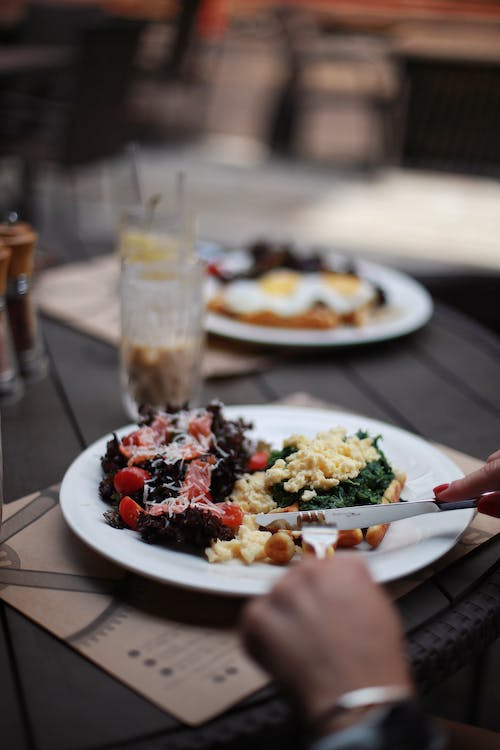knife: (251, 489, 500, 533)
